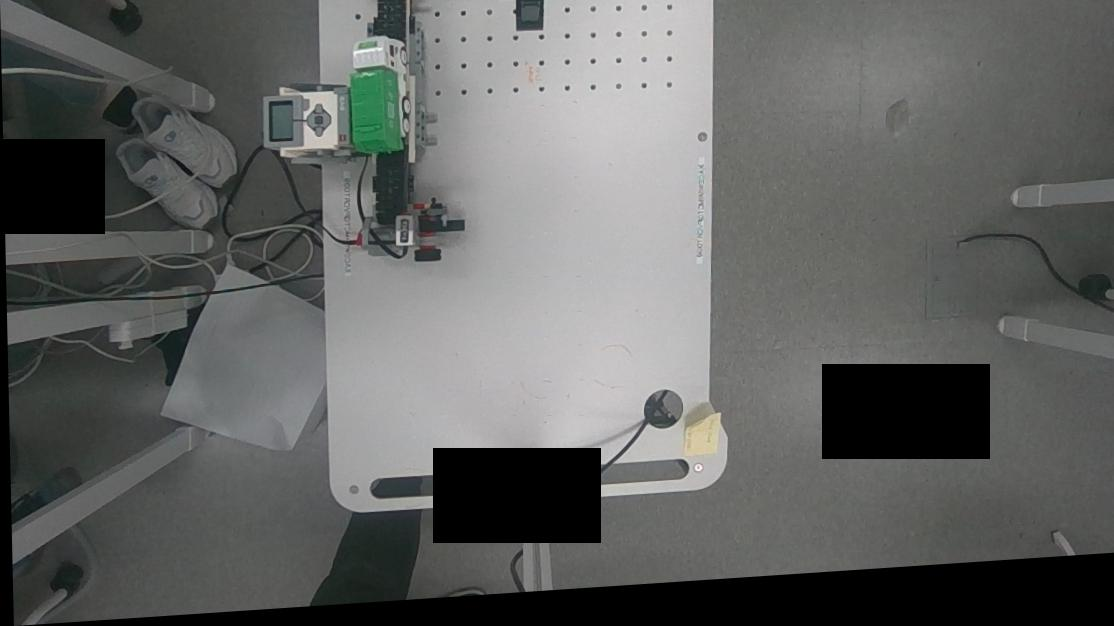truck: (340, 31, 428, 168)
